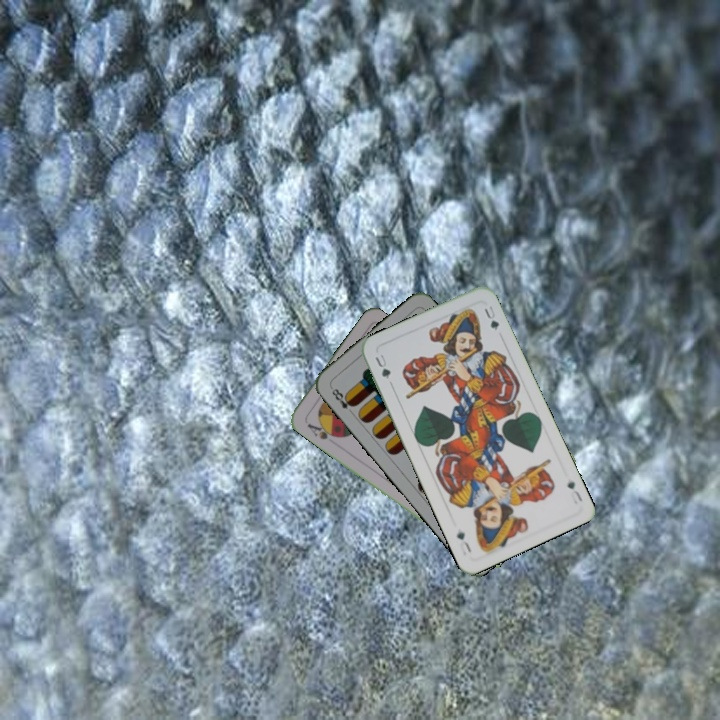E8: (327, 383, 358, 417)
GU: (371, 350, 393, 382), (563, 477, 585, 507)
SA: (302, 417, 340, 442)
